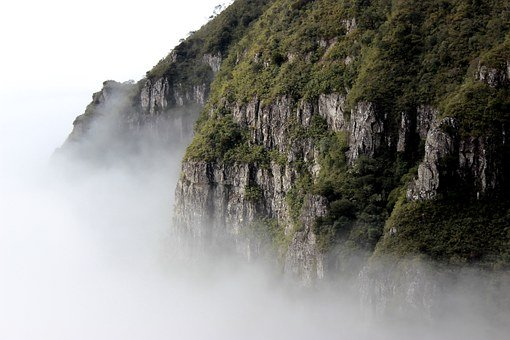mountain: (111, 4, 510, 338)
